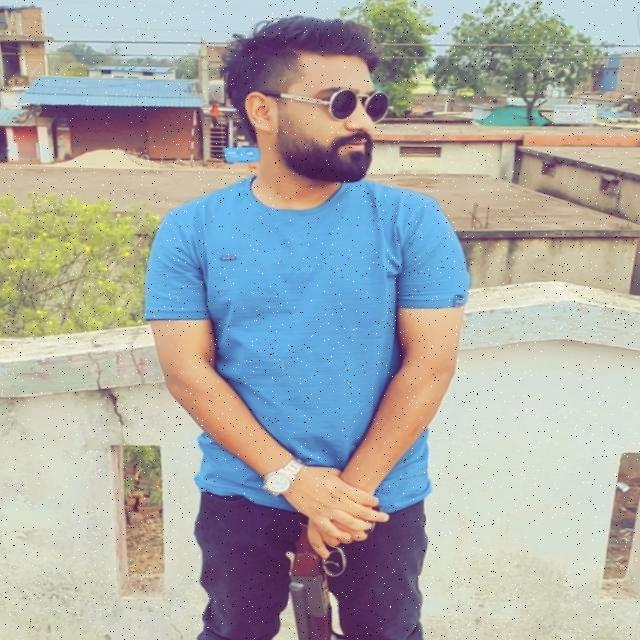gun: (278, 490, 384, 640)
